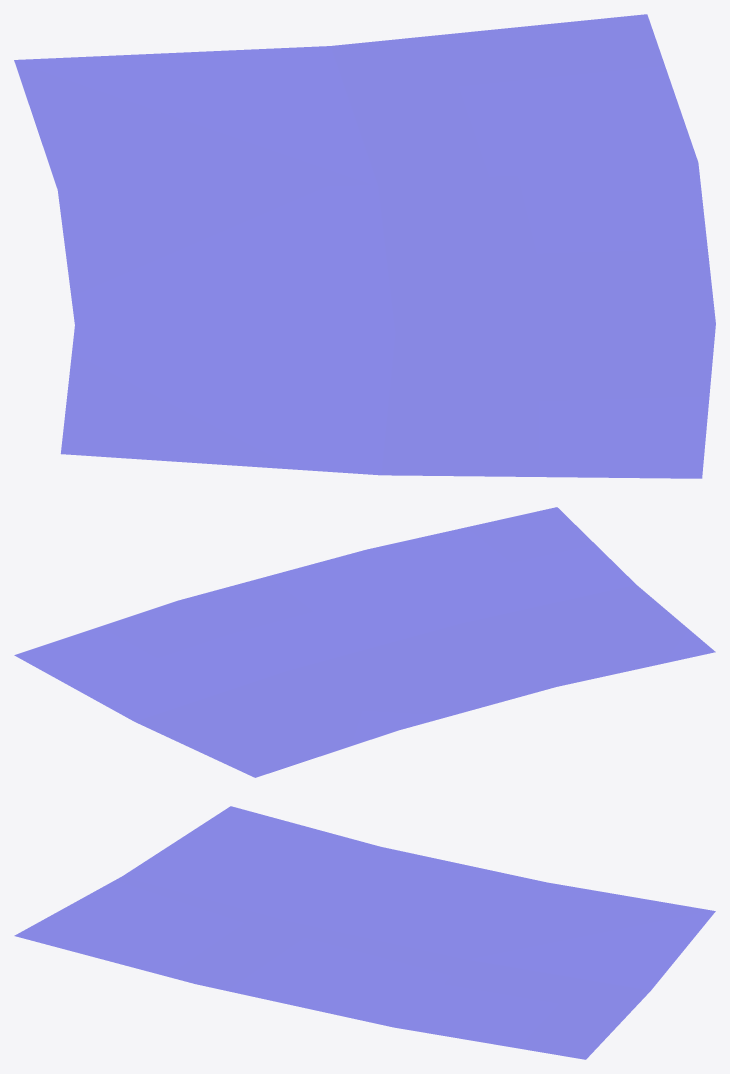
File: track_la_coll_road_02.fbx
3 views of the same model, one above another, from view 1: azimuth 30°, elevation 25°; view 2: azimuth 150°, elevation 25°; view 3: azimuth 270°, elevation 25° (orthographic). The views are drawn at different scales.
Visible parts, largest first — view 1: track_la_coll_road_02; view 2: track_la_coll_road_02; view 3: track_la_coll_road_02.
Part boxes in pixels (x1,y1,x2,y2): track_la_coll_road_02: [14, 14, 715, 478]; track_la_coll_road_02: [14, 507, 715, 777]; track_la_coll_road_02: [14, 806, 715, 1059].
Size of the model in its own units: 42.52 by 0.4061 by 49.7.
